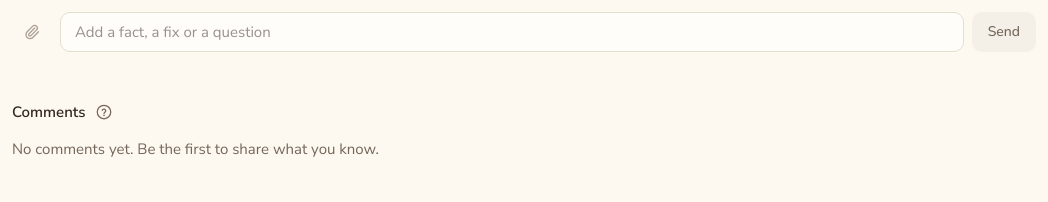
Test: CommunitySection — the input › shows the server’s reason when a send fails with one
Type "Lead approves access." into the text box named "Know more about Team Board?" at (512, 32), box [60,12,964,52]
Then press Enter
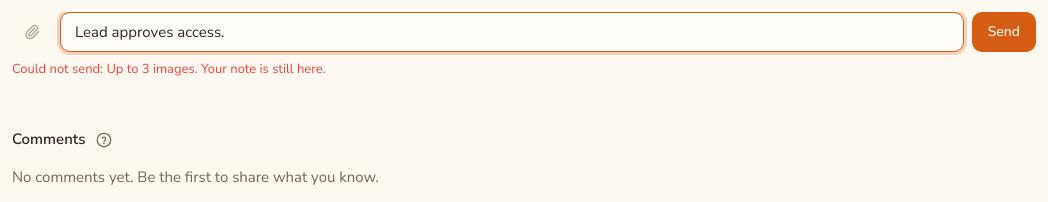
Now the message reads "Could not send: Up to 3 images. Your note is still here.", box [12,60,326,78]
